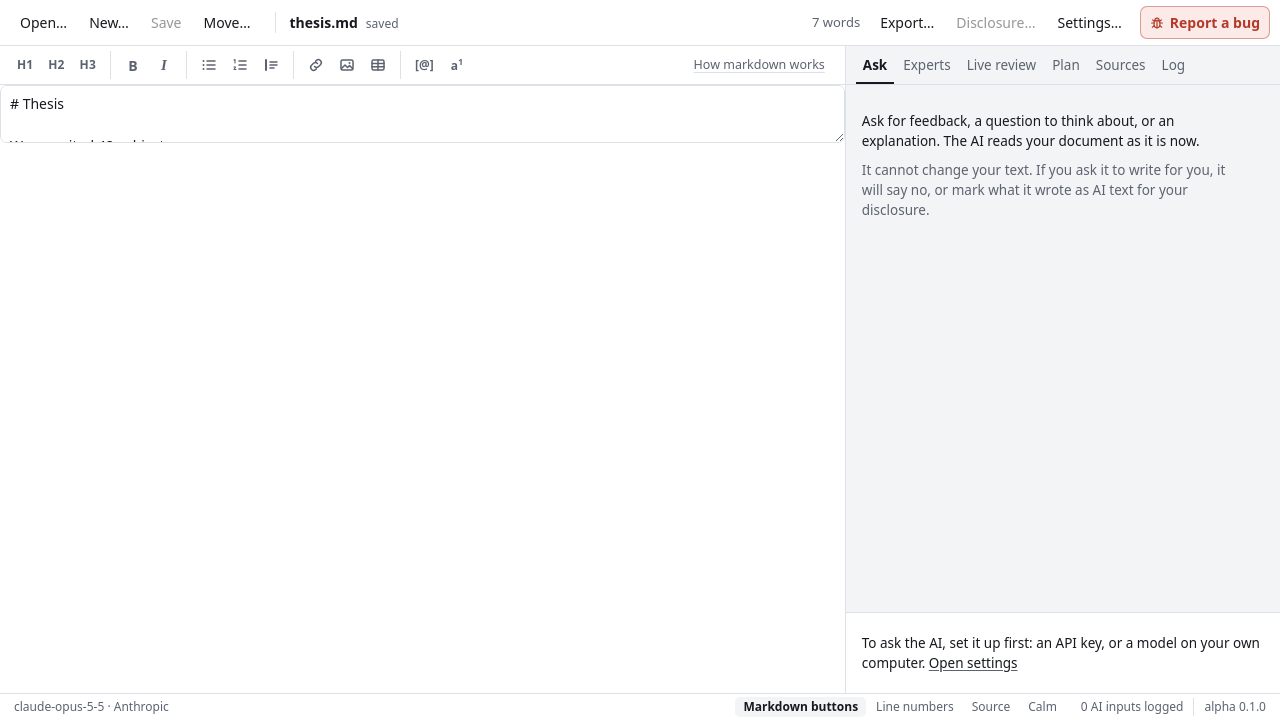
it: until the AI is set up the panel says so and asks nothing
The width and height of the screenshot is (1280, 720).
Expected: the text "set it up first" is shown, [862,634,1260,672]
Click the button "Open settings" at (973, 663), box [929,653,1018,673]
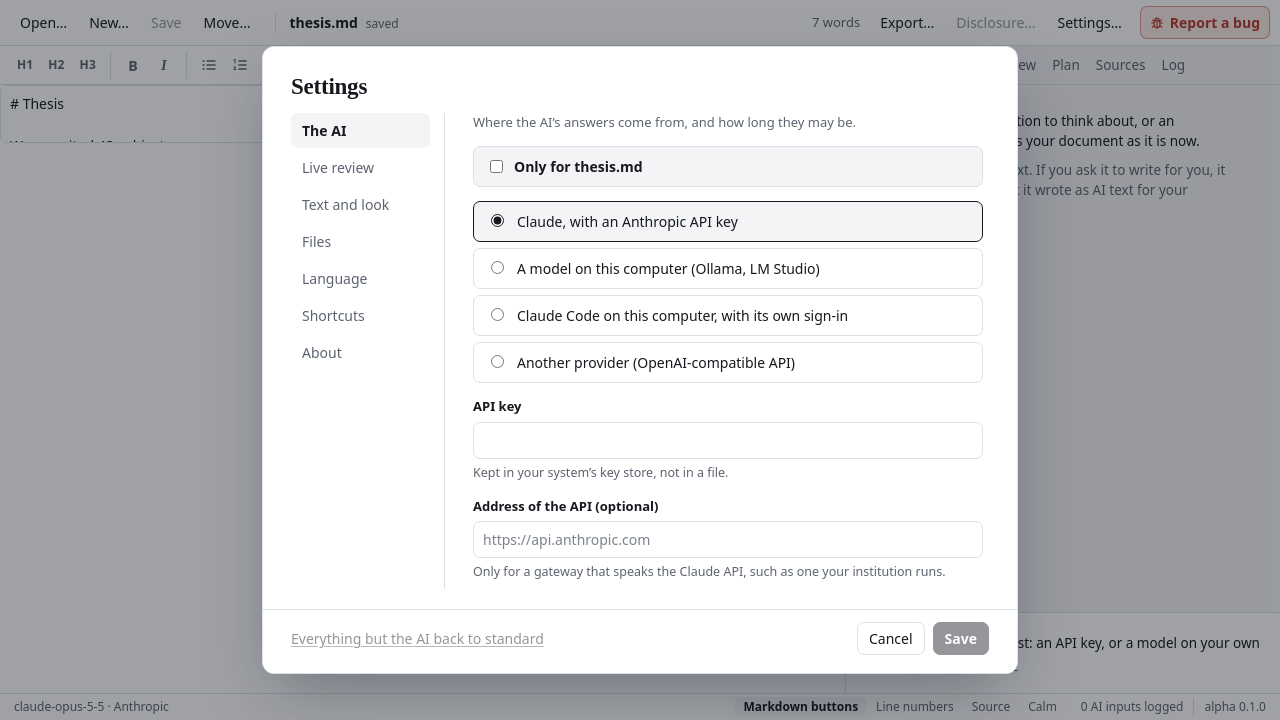
Result: the password field labelled "API key Kept in your system’s key store, not in a file." is shown at [473,422,983,459]
